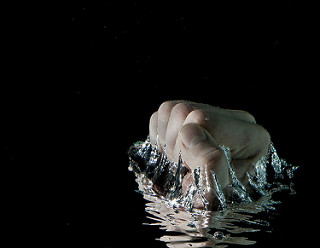fist: (148, 93, 269, 216)
